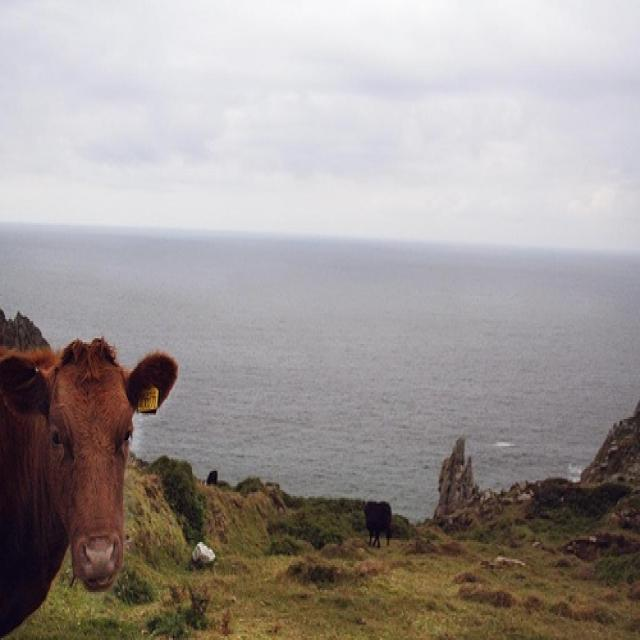cow: (0, 332, 177, 632), (362, 502, 392, 544), (208, 469, 218, 484)
